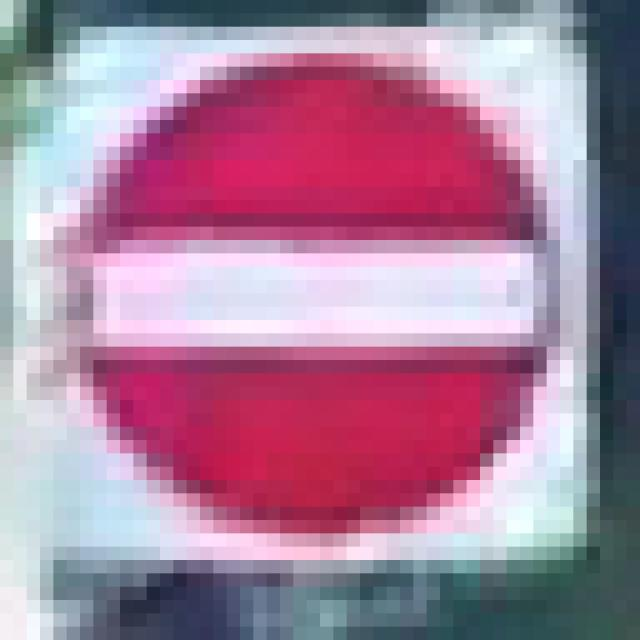noentry_sign: (53, 40, 560, 533)
